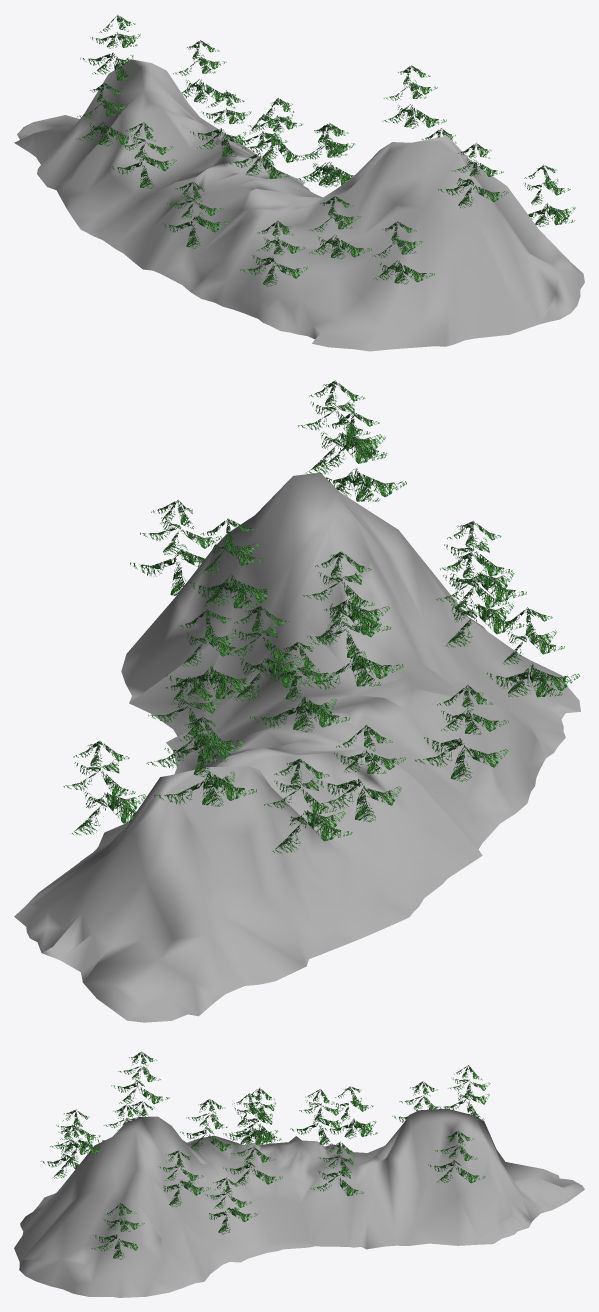
The model's file is snow_island_07.fbx.
The picture shows the model from 3 angles, top to bottom: view 1: azimuth 30°, elevation 25°; view 2: azimuth 150°, elevation 25°; view 3: azimuth 270°, elevation 25°; orthographic projection. The views are drawn at different scales.
Visible parts, largest first — view 1: snow_island_07; view 2: snow_island_07; view 3: snow_island_07.
Part boxes in pixels (x1,y1,x2,y2): snow_island_07: (14, 14, 584, 351); snow_island_07: (14, 380, 580, 1022); snow_island_07: (14, 1051, 584, 1297).
Size of the model in its own units: 0.2939 by 0.1802 by 0.4935.
2 materials, 1 textured.
